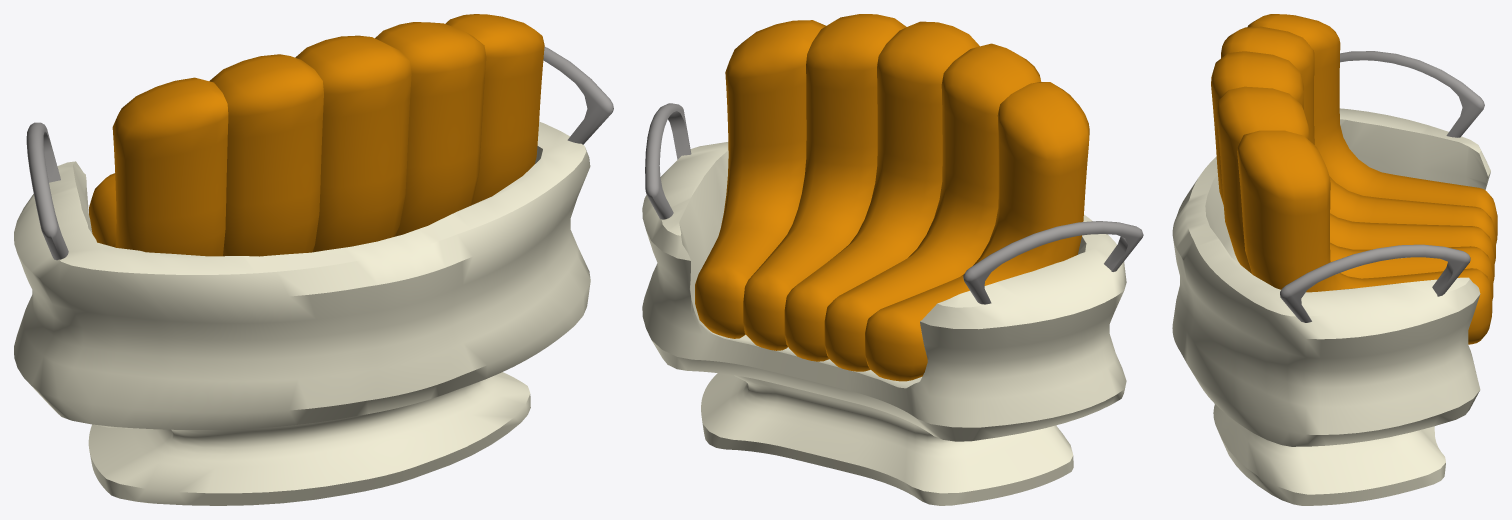
The model's file is ArmChair.fbx.
3 renders of one model, left to right at view 1: azimuth 30°, elevation 25°; view 2: azimuth 150°, elevation 25°; view 3: azimuth 270°, elevation 25°, orthographic. The views are drawn at different scales.
Parts seen in each view (by area): view 1: Body, Cushions, Rails; view 2: Cushions, Body, Rails; view 3: Body, Cushions, Rails.
Part boxes in pixels (box(x1,y1,x2,y2)): Body: box(14, 121, 590, 505); Cushions: box(89, 14, 544, 256); Rails: box(26, 47, 613, 260); Cushions: box(695, 14, 1089, 381); Body: box(642, 142, 1126, 505); Rails: box(645, 103, 1143, 304); Body: box(1172, 108, 1490, 505); Cushions: box(1211, 14, 1497, 344); Rails: box(1280, 51, 1484, 322).
Bounding box in the file's own units: 8.12 × 6.06 × 4.88.
